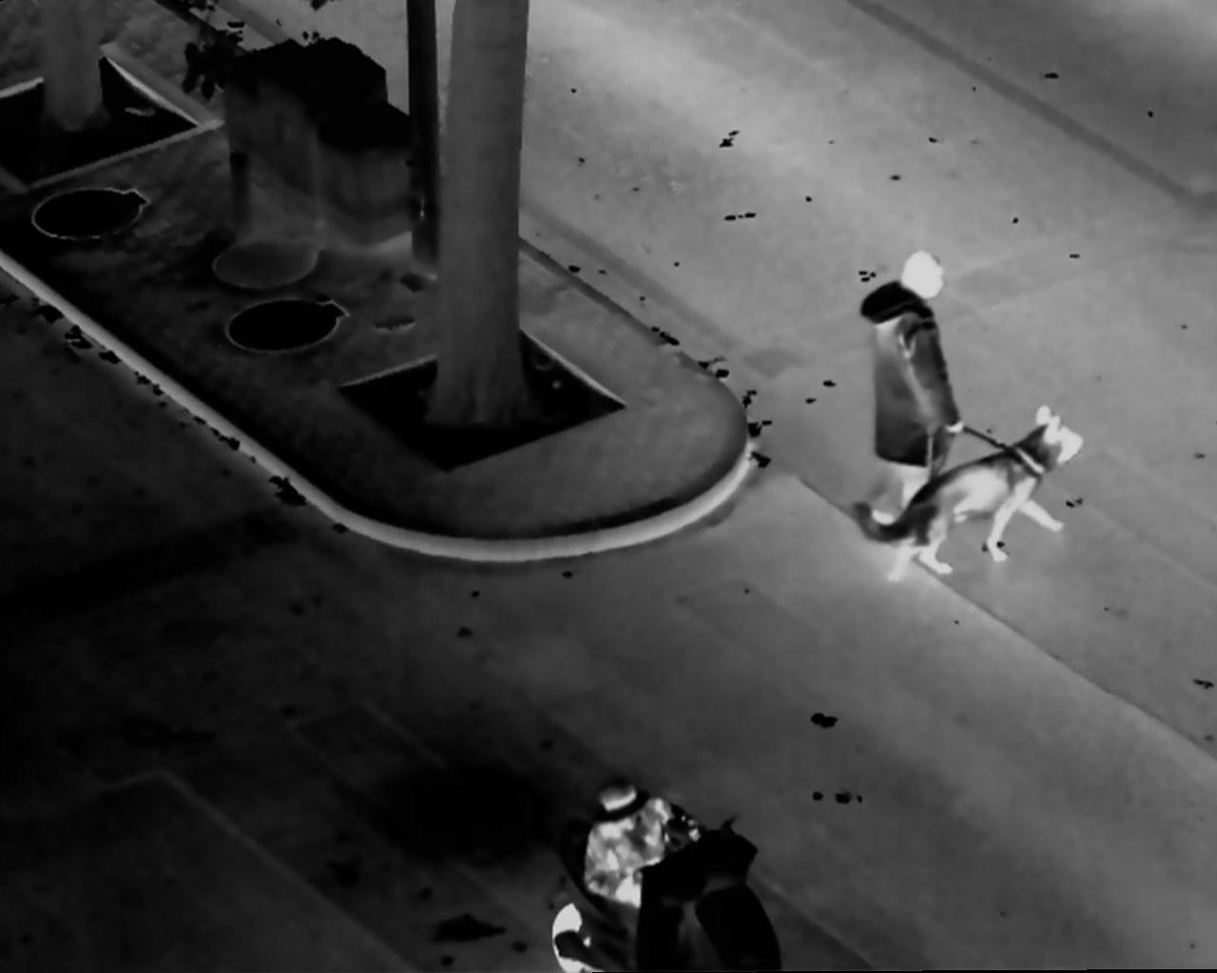person: (862, 244, 966, 524), (586, 778, 689, 973)
